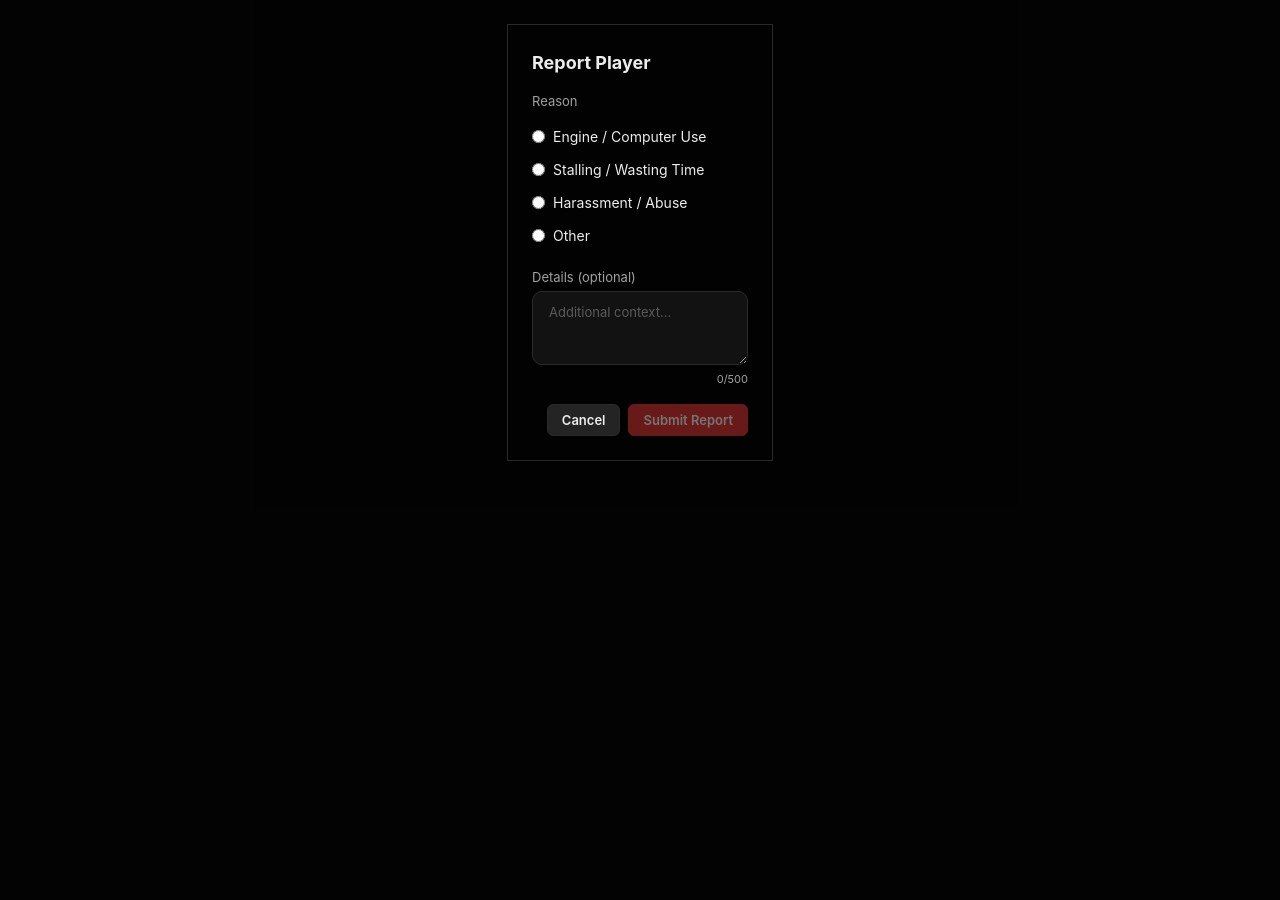
Scenario: ReportModal › should show success message on successful submission
The image size is (1280, 900).
Step 1. Click the text "Engine / Computer Use" → (619, 136), box [532, 128, 706, 144]
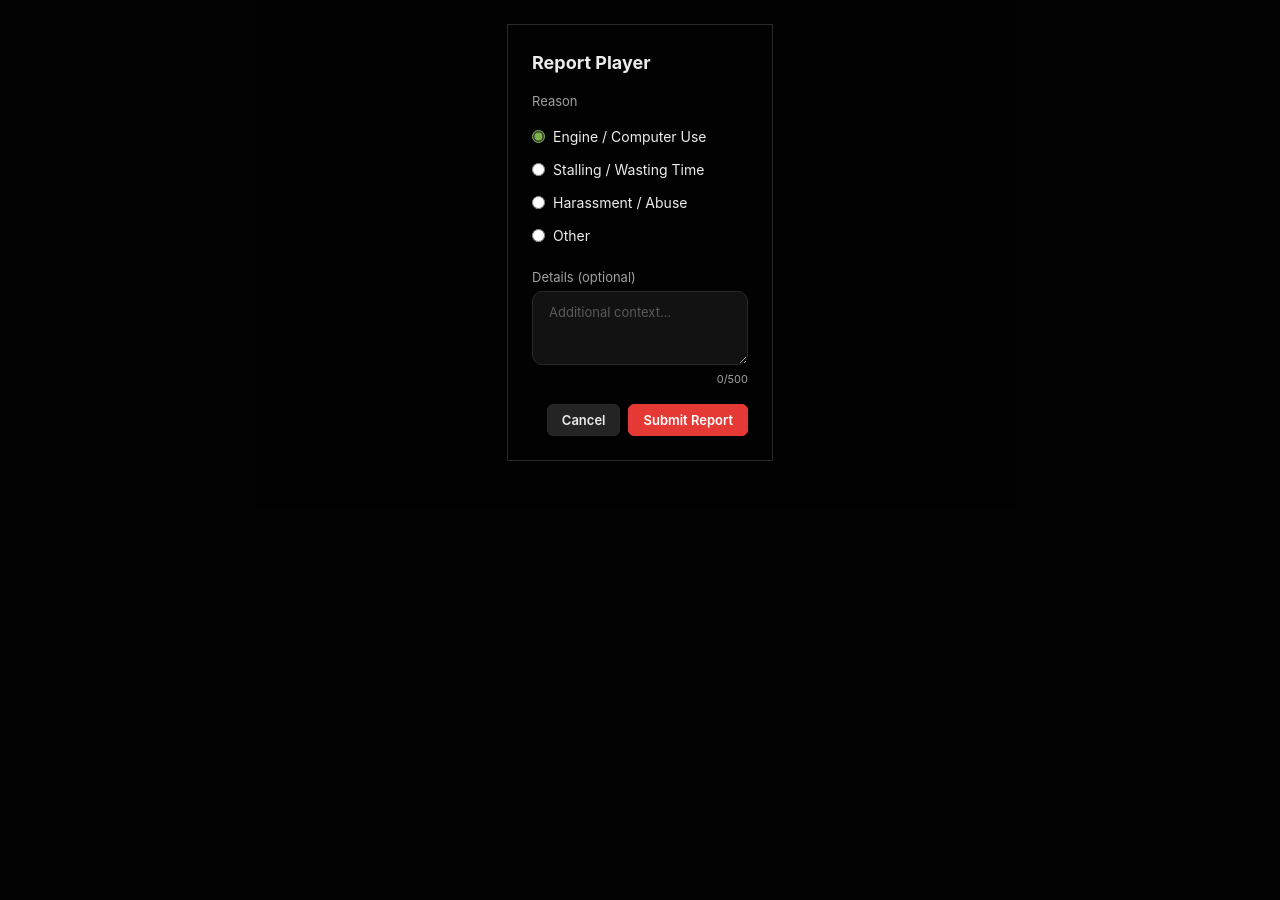
Step 2. Click the button "Submit Report" → (688, 420), box [628, 404, 748, 436]
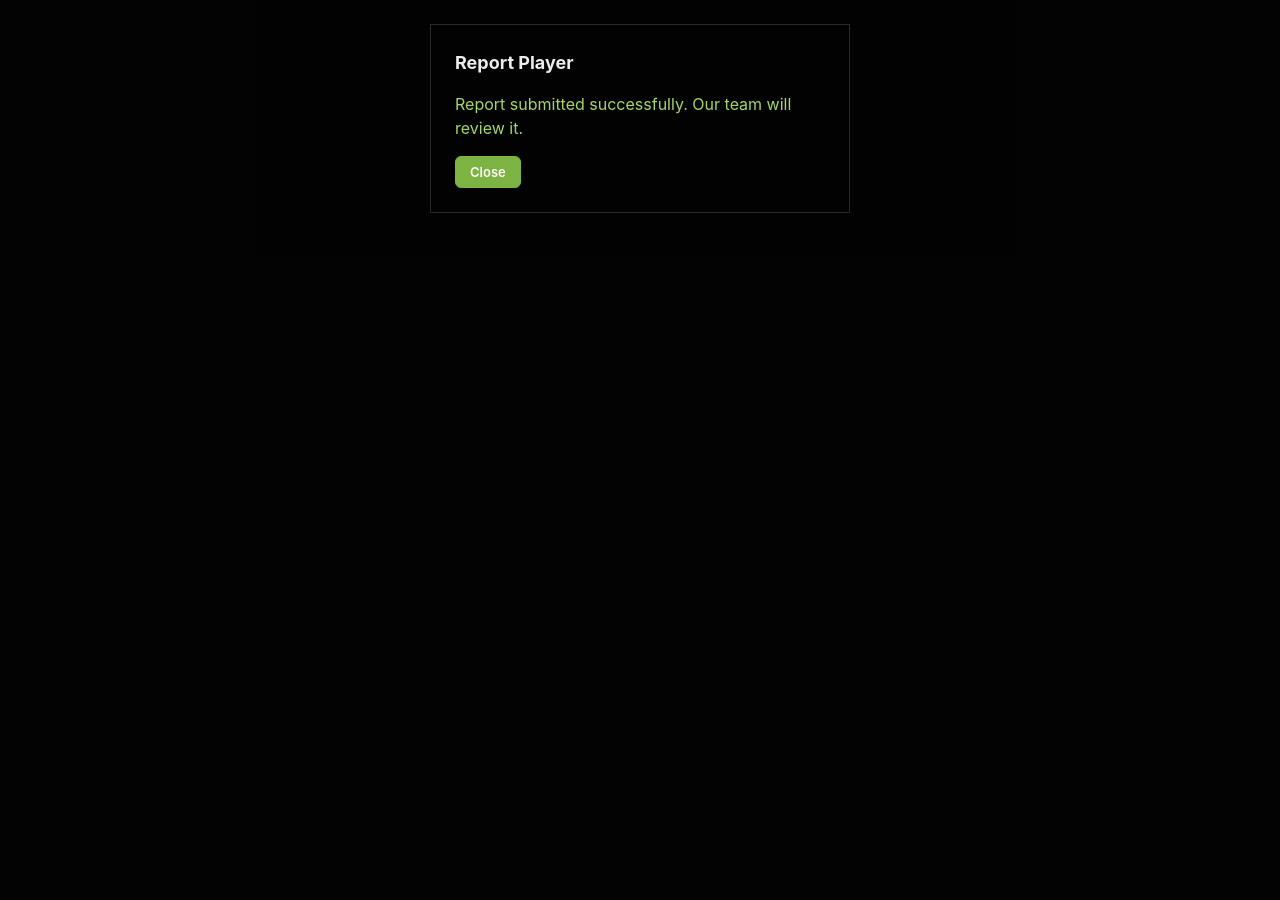
Check: the text "Report submitted successfully. Our team will review it." is shown, box [455, 92, 825, 140]
